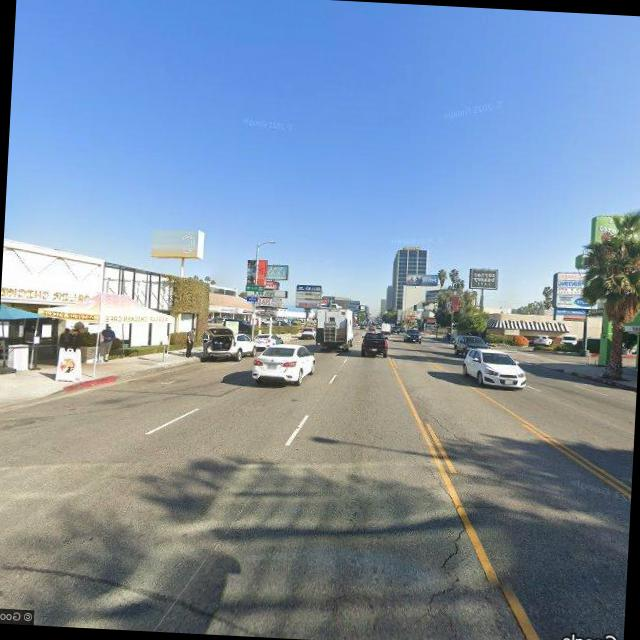pothole: (418, 522, 471, 626), (428, 413, 472, 446)
